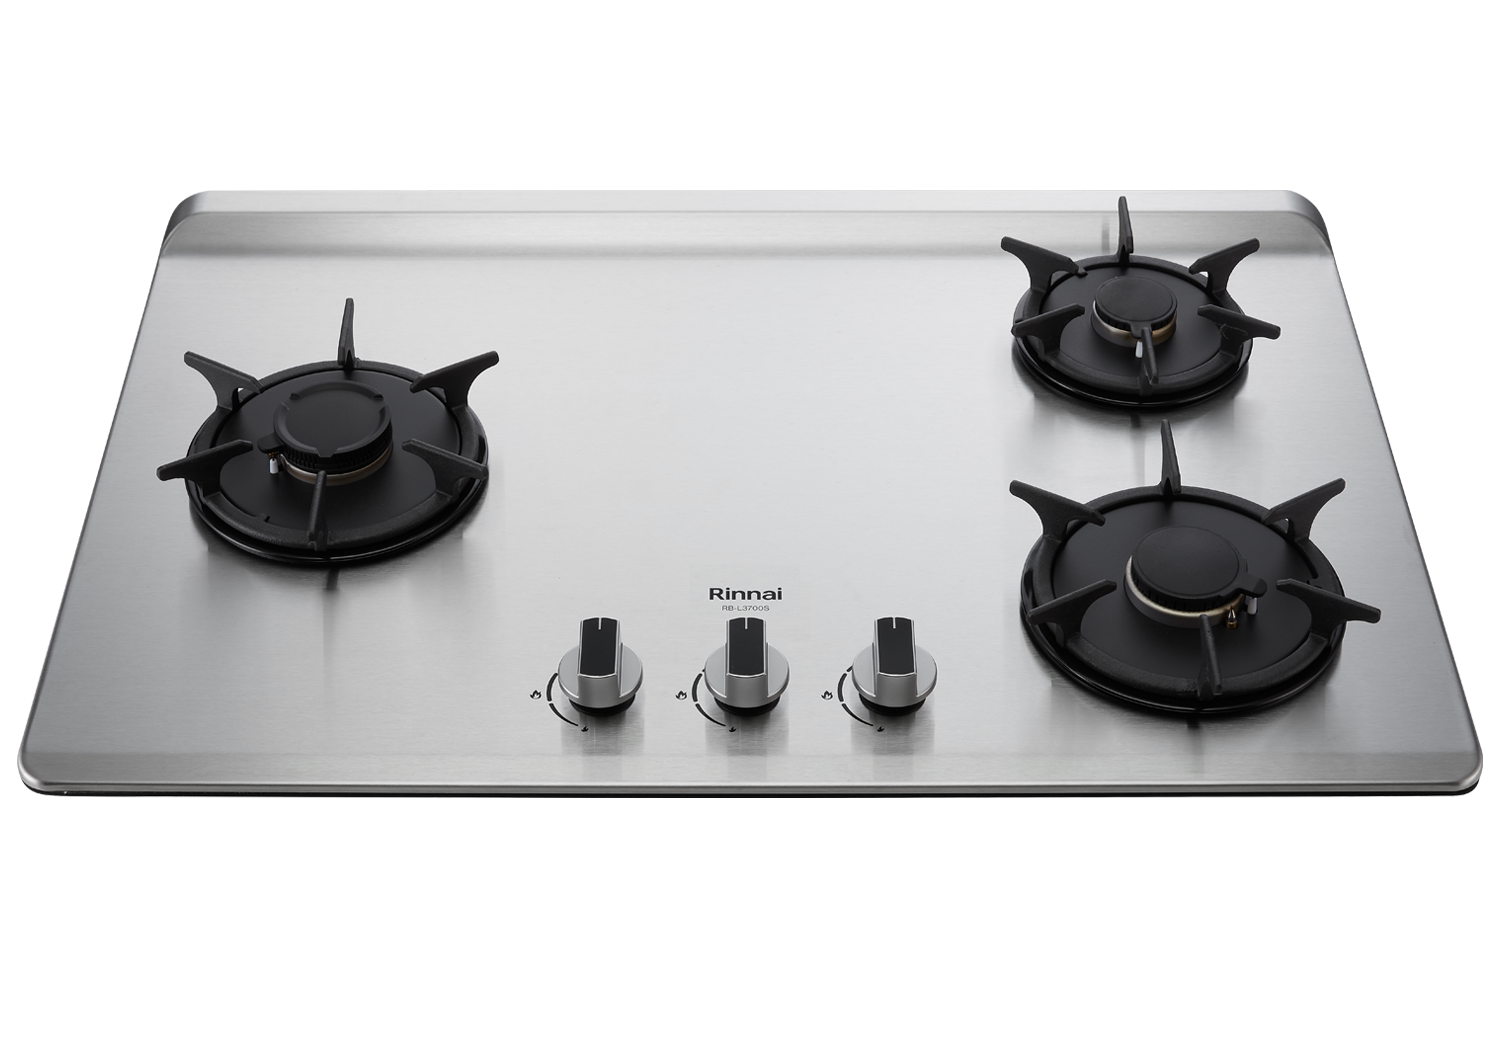gasoven: (15, 175, 1484, 809)
